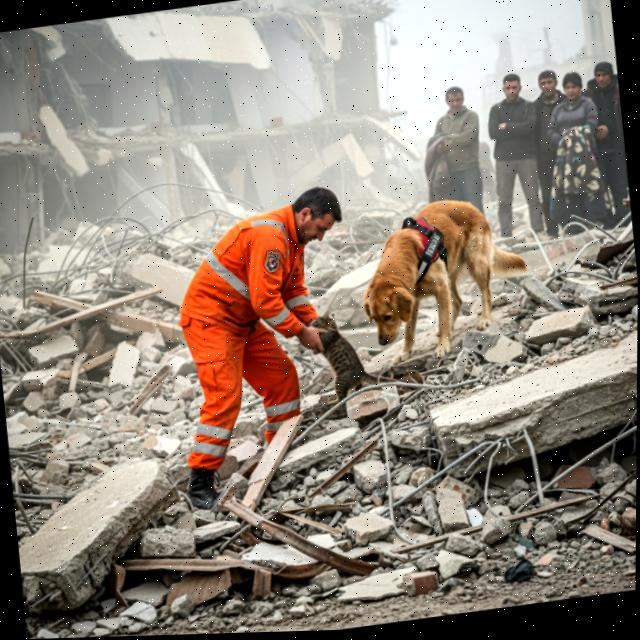cat: (296, 299, 374, 419)
civilian: (473, 67, 559, 255), (517, 59, 587, 250), (544, 60, 614, 236), (417, 80, 492, 230), (577, 49, 634, 233)
dog: (348, 177, 538, 370)
rescuer: (153, 176, 375, 515)
